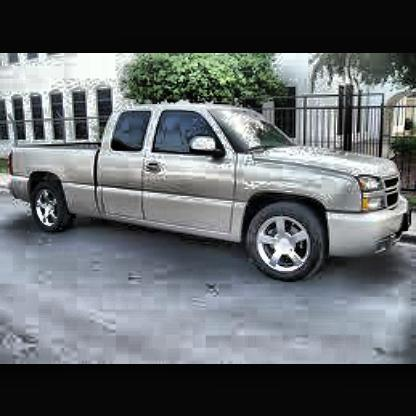Chevrolet Silverado 1500 Classic Extended Cab 2007: (8, 103, 416, 287)
